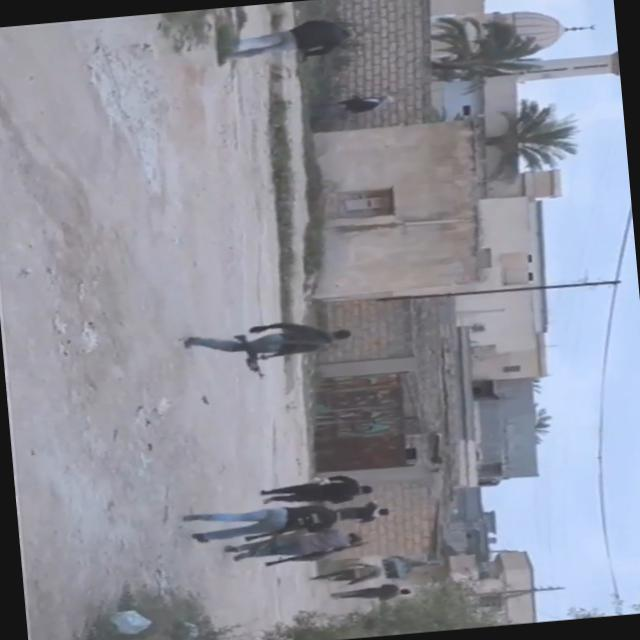long weapon: (220, 329, 275, 386)
